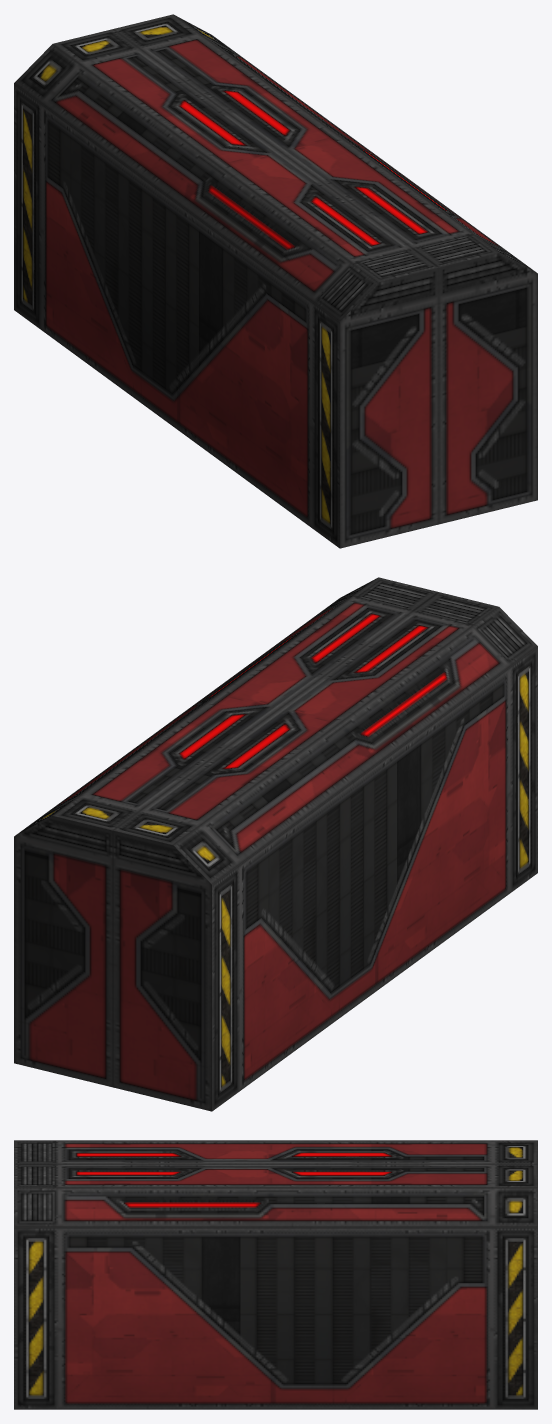
File: BFP_ConstMidHullSect01.FBX
3 views of the same model, one above another, from view 1: azimuth 30°, elevation 25°; view 2: azimuth 150°, elevation 25°; view 3: azimuth 270°, elevation 25° (orthographic). The views are drawn at different scales.
Visible parts, largest first — view 1: BFP_ConstMidHullSect01; view 2: BFP_ConstMidHullSect01; view 3: BFP_ConstMidHullSect01.
Part boxes in pixels (x1,y1,x2,y2): BFP_ConstMidHullSect01: (14, 14, 537, 548); BFP_ConstMidHullSect01: (14, 577, 537, 1111); BFP_ConstMidHullSect01: (14, 1140, 537, 1409).
Bounding box in the file's own units: 80.71 × 100 × 230.
1 material, 1 textured.
